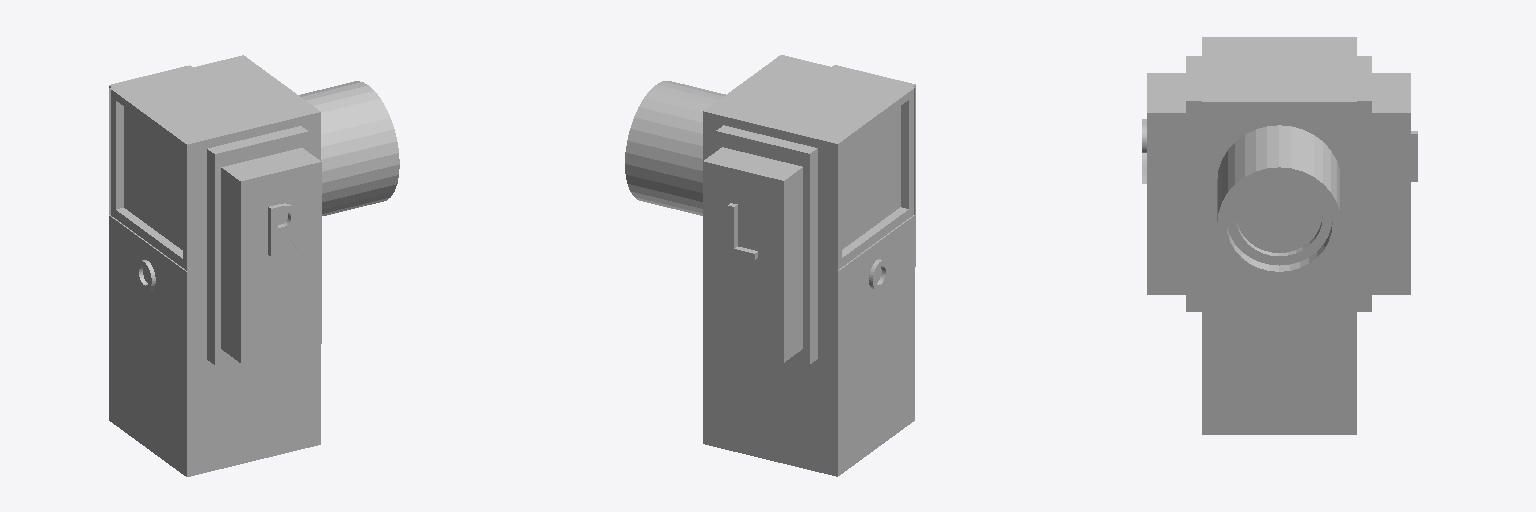
The model's file is Camara.obj.
The picture shows the model from 3 angles: view 1: azimuth 30°, elevation 25°; view 2: azimuth 150°, elevation 25°; view 3: azimuth 270°, elevation 25°; orthographic projection.
Parts seen in each view (by area): view 1: Cube_Cube.003, Cube.001_Cube.005, Cylinder.002_Cylinder.004, Text.001; view 2: Cube_Cube.003, Cube.001_Cube.005, Cylinder.002_Cylinder.004, Text.002; view 3: Cube_Cube.003, Cube.001_Cube.005, Cylinder.002_Cylinder.004.
Part boxes in pixels (bbox=[...]): Cube_Cube.003: bbox=[109, 55, 320, 476]; Cube.001_Cube.005: bbox=[109, 65, 321, 364]; Cylinder.002_Cylinder.004: bbox=[299, 81, 399, 215]; Text.001: bbox=[268, 203, 305, 256]; Cube_Cube.003: bbox=[703, 55, 914, 476]; Cube.001_Cube.005: bbox=[703, 65, 915, 364]; Cylinder.002_Cylinder.004: bbox=[625, 81, 725, 215]; Text.002: bbox=[727, 203, 757, 259]; Cube_Cube.003: bbox=[1202, 37, 1356, 434]; Cube.001_Cube.005: bbox=[1147, 56, 1410, 311]; Cylinder.002_Cylinder.004: bbox=[1217, 125, 1340, 279].
Bounding box in the file's own units: 3.35 × 4.73 × 3.56.